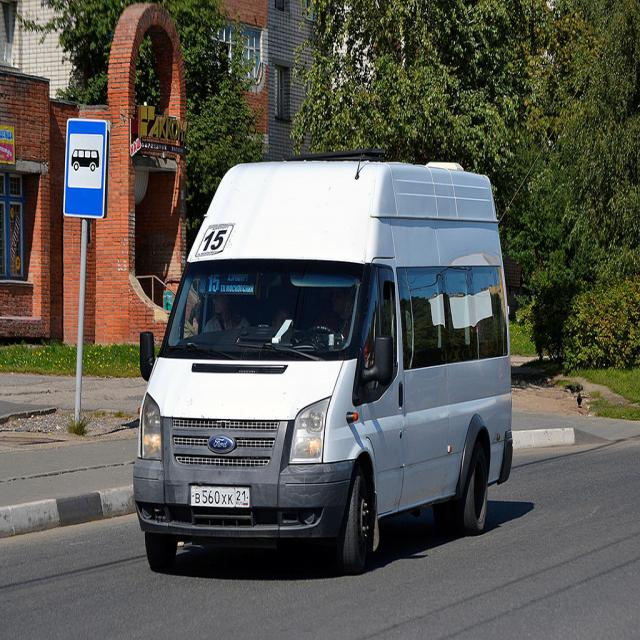number-of-bus: (199, 225, 237, 262)
